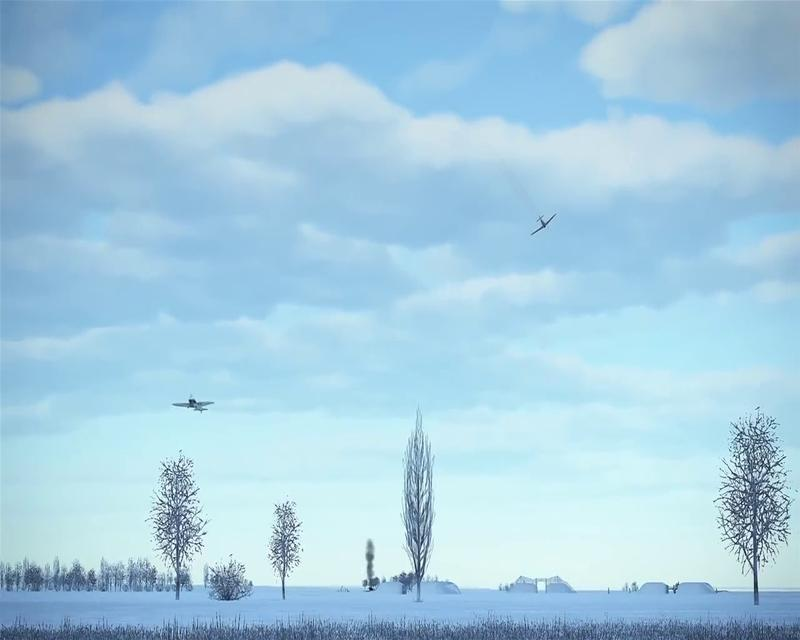UAV: (172, 394, 215, 415), (530, 212, 557, 236)
